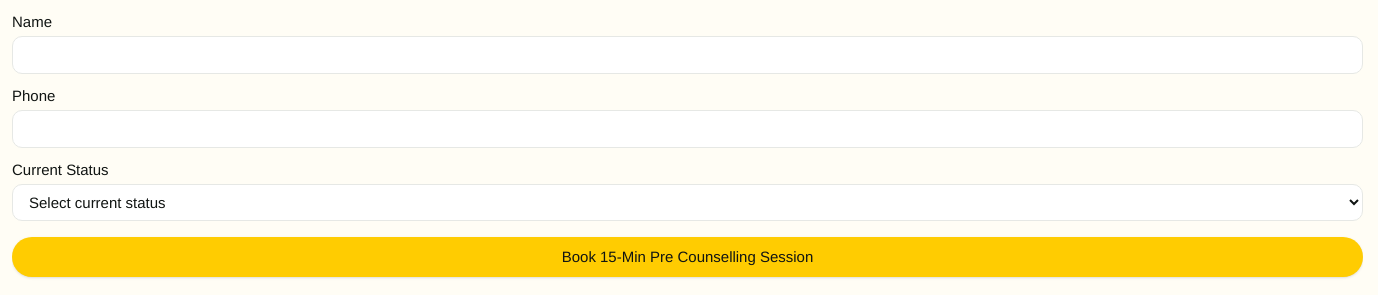
it: ConsultationForm › disables the submit button after the first click to prevent duplicate leads
The width and height of the screenshot is (1378, 295).
Type "Aarav Shah" into the field labelled "Name" at (688, 55), box [12,36,1363,74]
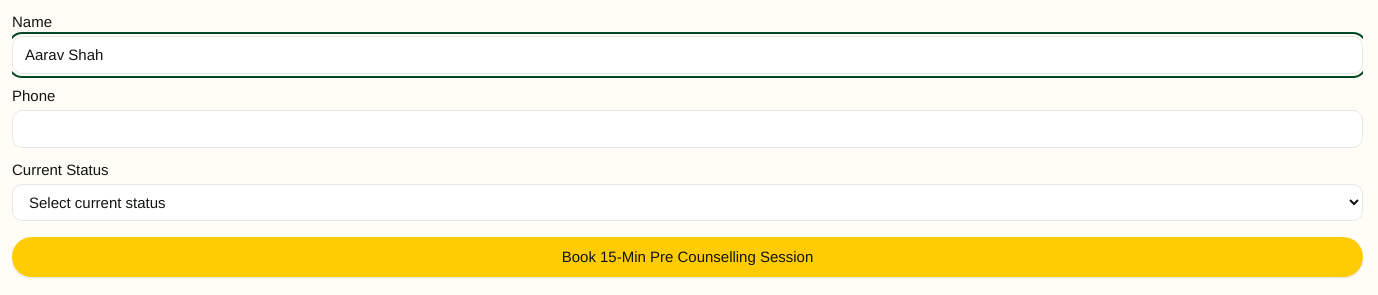
Type "9876543210" into the field labelled "Phone" at (688, 129), box [12,110,1363,148]
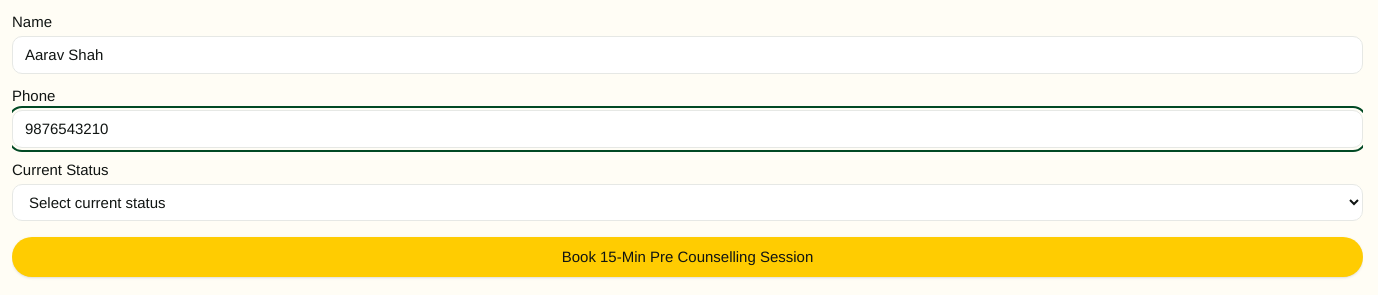
Select "Class 10" in the dropdown labelled "Current Status" at (688, 202), box [12,184,1363,221]
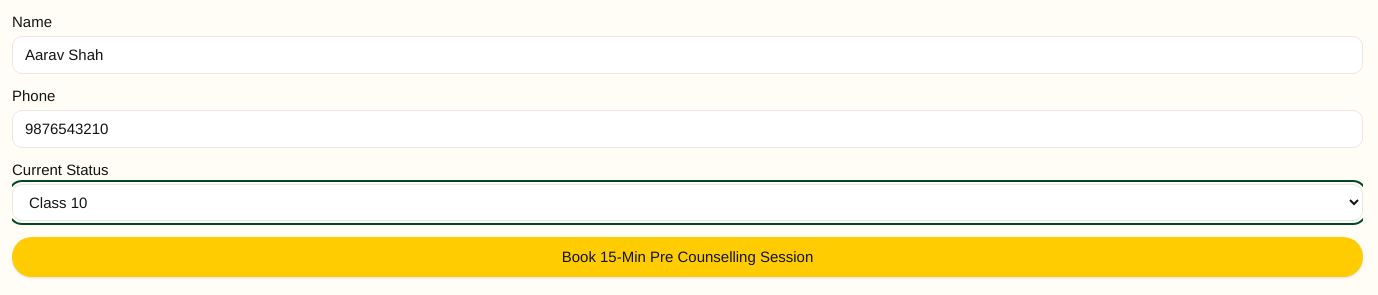
Click the button "Book 15-Min Pre Counselling Session" at (688, 257), box [12,237,1363,277]
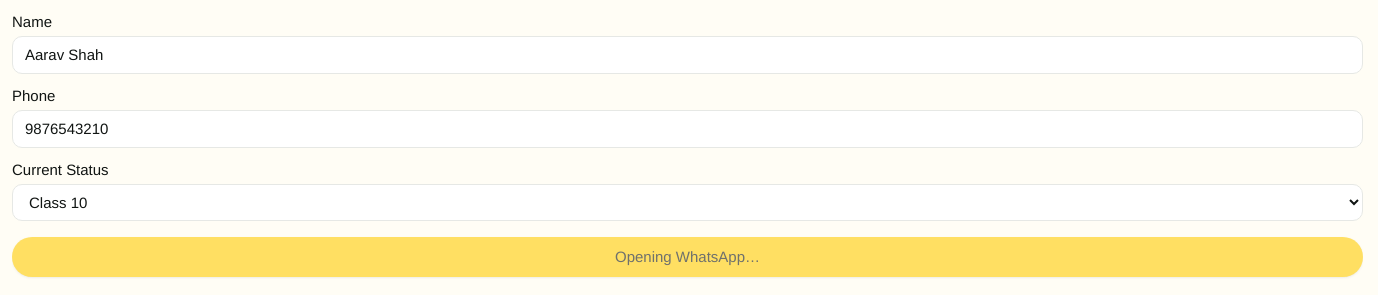
Result: the button named "book 15-min pre counselling session" is disabled at [12,237,1363,277]
